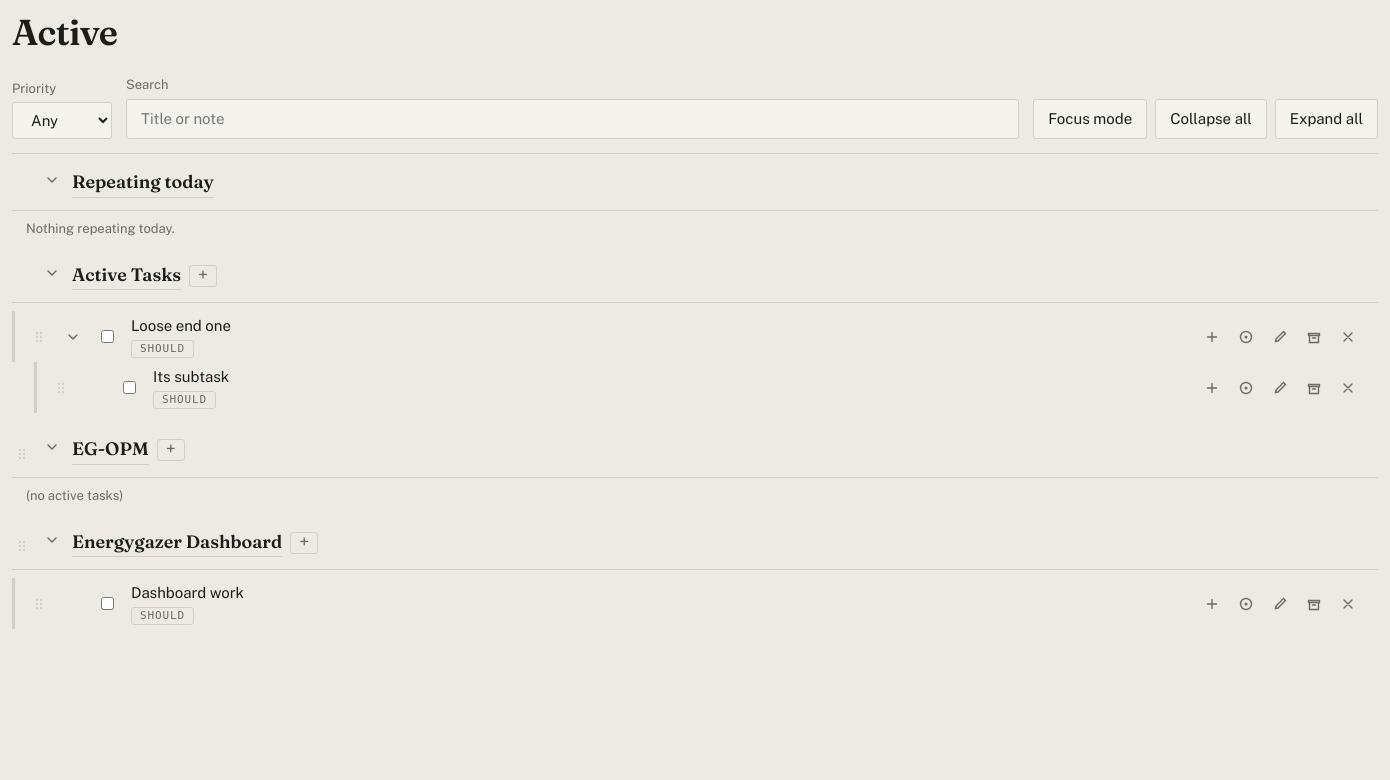
Test case: collapsing › reports its state to assistive tech and flips it back
This screenshot has width=1390, height=780.
Click the 2nd button named "collapse Active Tasks" at (52, 272), box [40, 260, 64, 284]
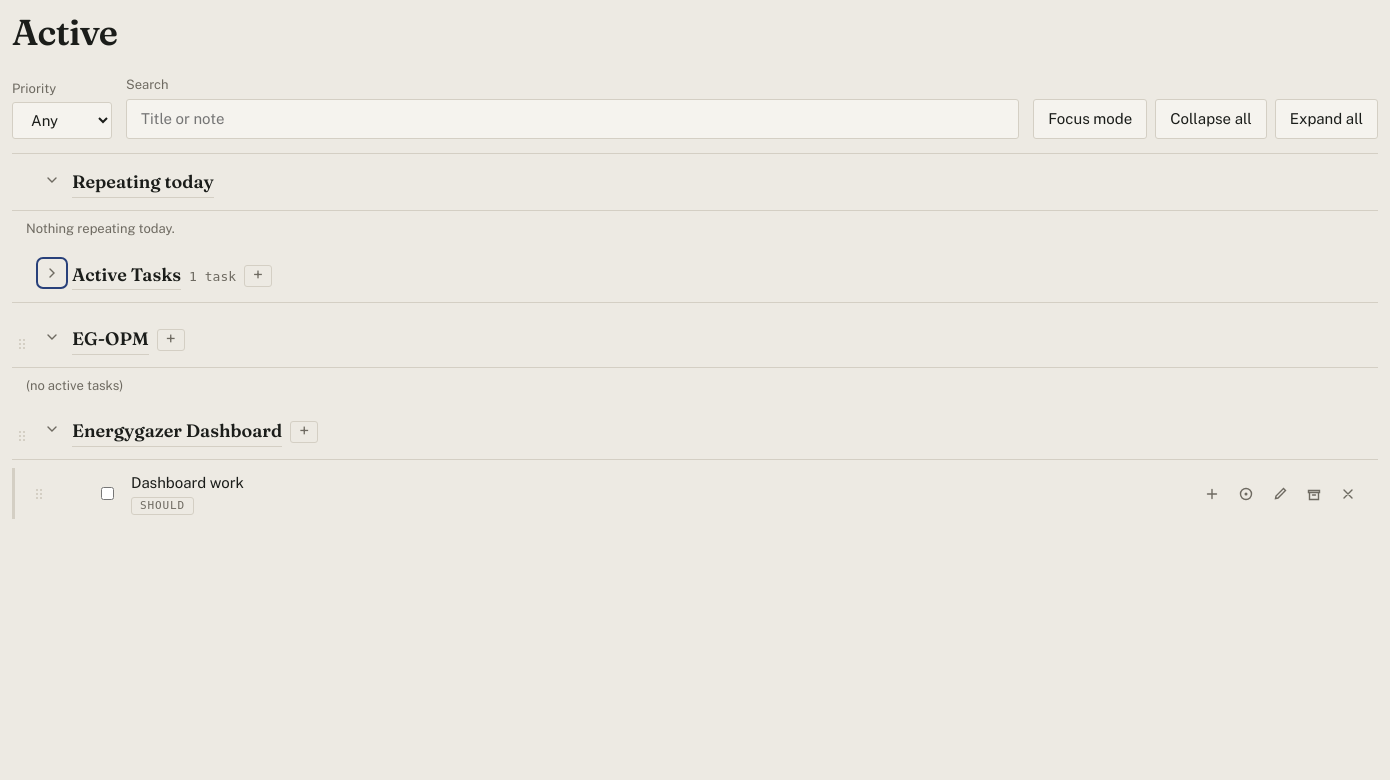
Expected: the 2nd button named "expand Active Tasks" is collapsed
Click the 2nd button named "expand Active Tasks" at (52, 272), box [40, 260, 64, 284]
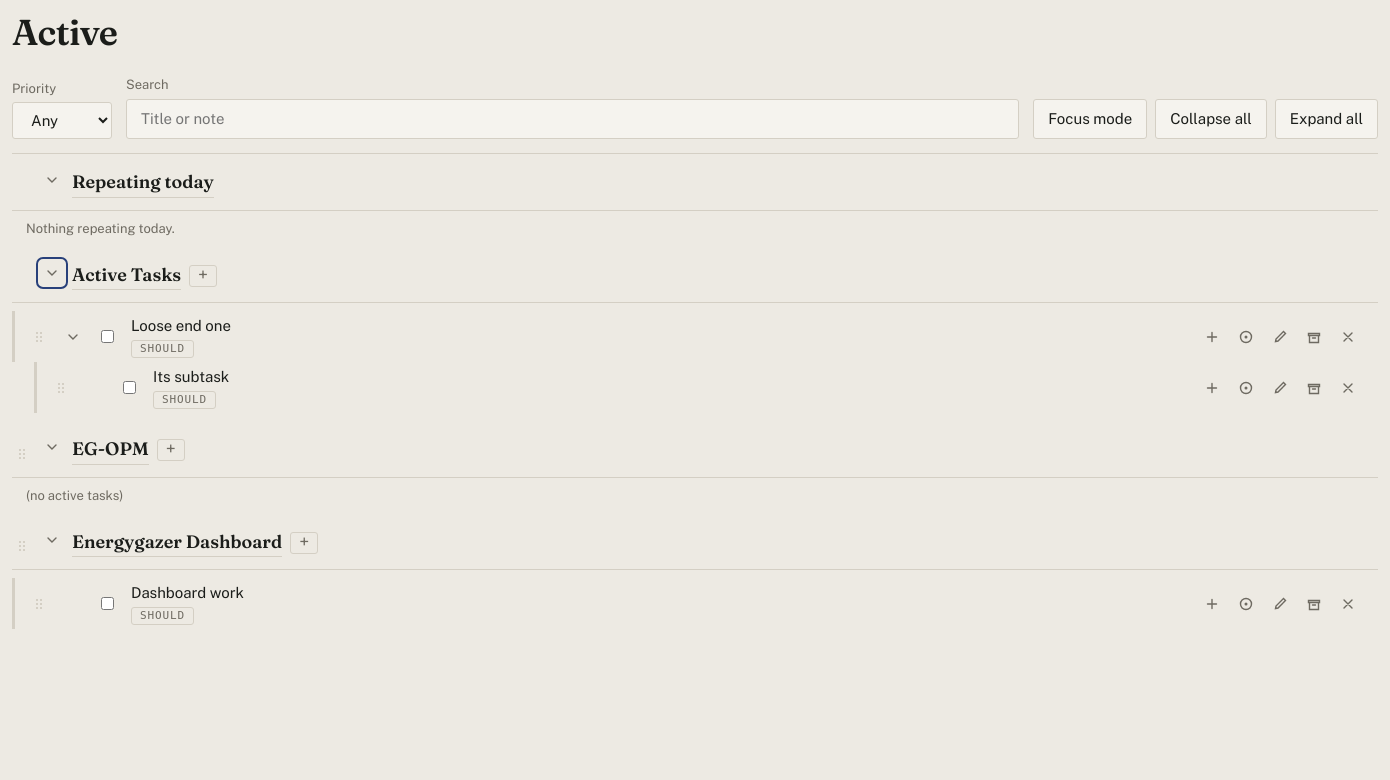
Expected: the text "Loose end one" is shown, [131, 317, 231, 334]
